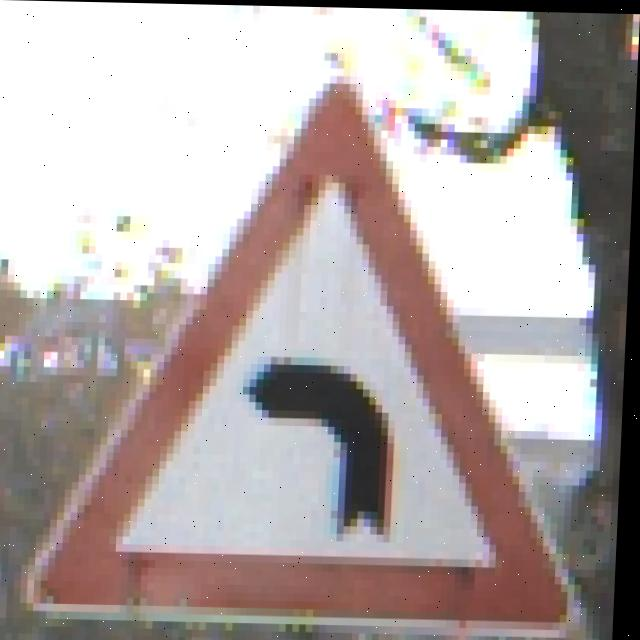left_turn: (54, 118, 578, 639)
